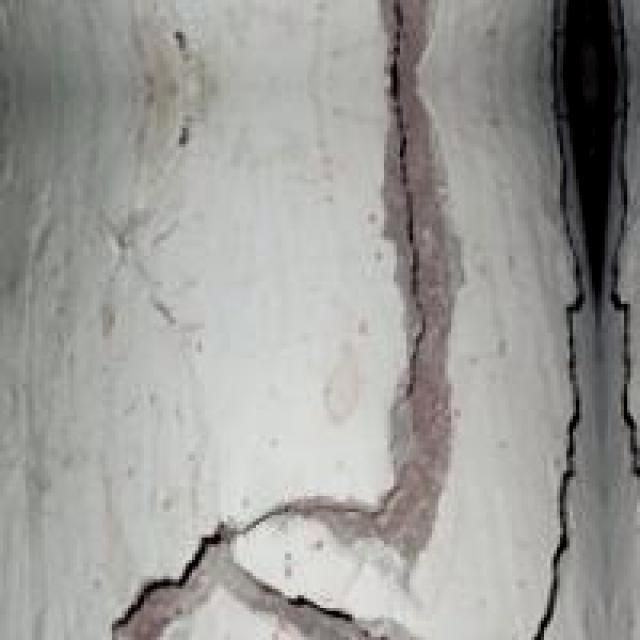SurfaceCrack: (82, 522, 392, 640)
